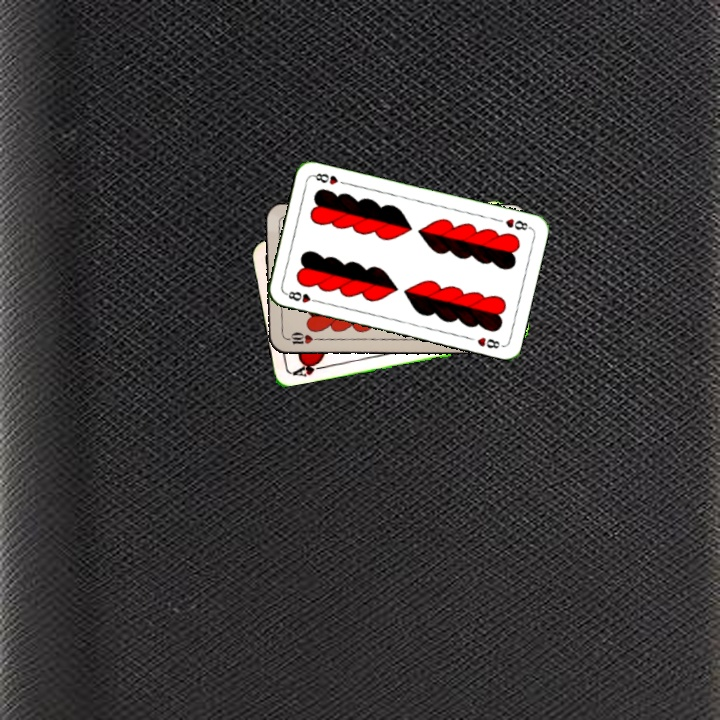H10: (281, 328, 321, 347)
H8: (281, 287, 322, 305), (501, 214, 533, 233)
HA: (288, 356, 328, 379)
